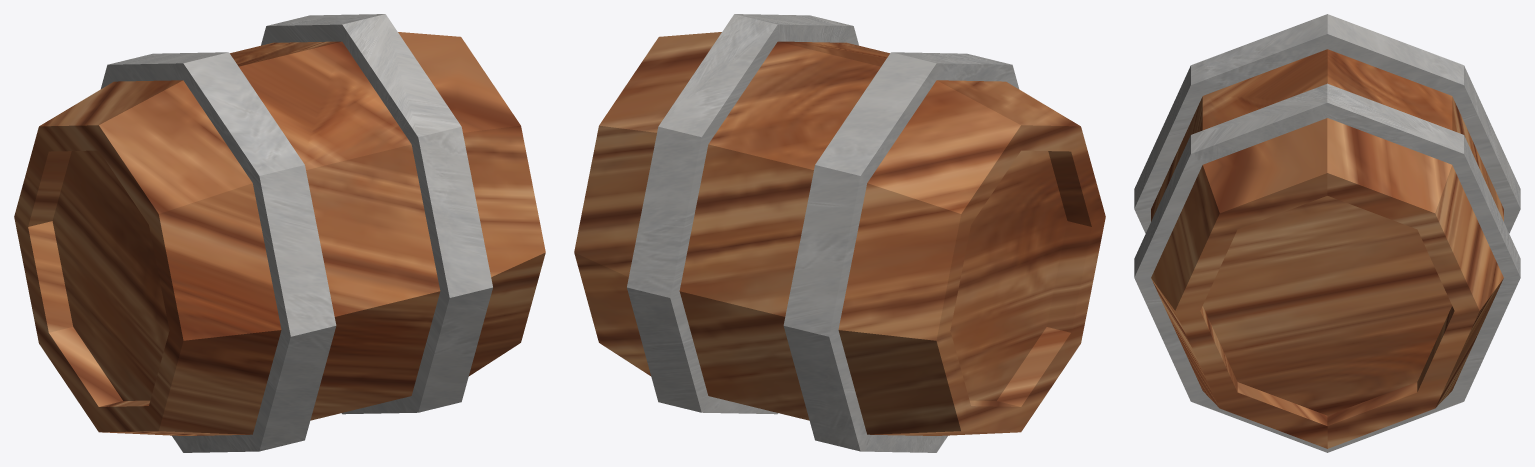
The model's file is barrel.glb.
The picture shows the model from 3 angles, left to right: view 1: azimuth 30°, elevation 25°; view 2: azimuth 150°, elevation 25°; view 3: azimuth 270°, elevation 25°; orthographic projection. The views are drawn at different scales.
Parts seen in each view (by area): view 1: barylka, metal; view 2: barylka, metal; view 3: barylka, metal.
Boxes of the visible parts, left/top/right/bottom form: barylka: left=14, top=32, right=545, bottom=435; metal: left=101, top=14, right=492, bottom=452; barylka: left=574, top=32, right=1105, bottom=435; metal: left=627, top=14, right=1018, bottom=452; barylka: left=1151, top=49, right=1503, bottom=448; metal: left=1134, top=14, right=1520, bottom=452.
Bounding box in the file's own units: 2.13 × 2.19 × 2.19.
Materials: 2 (2 with a texture image).
